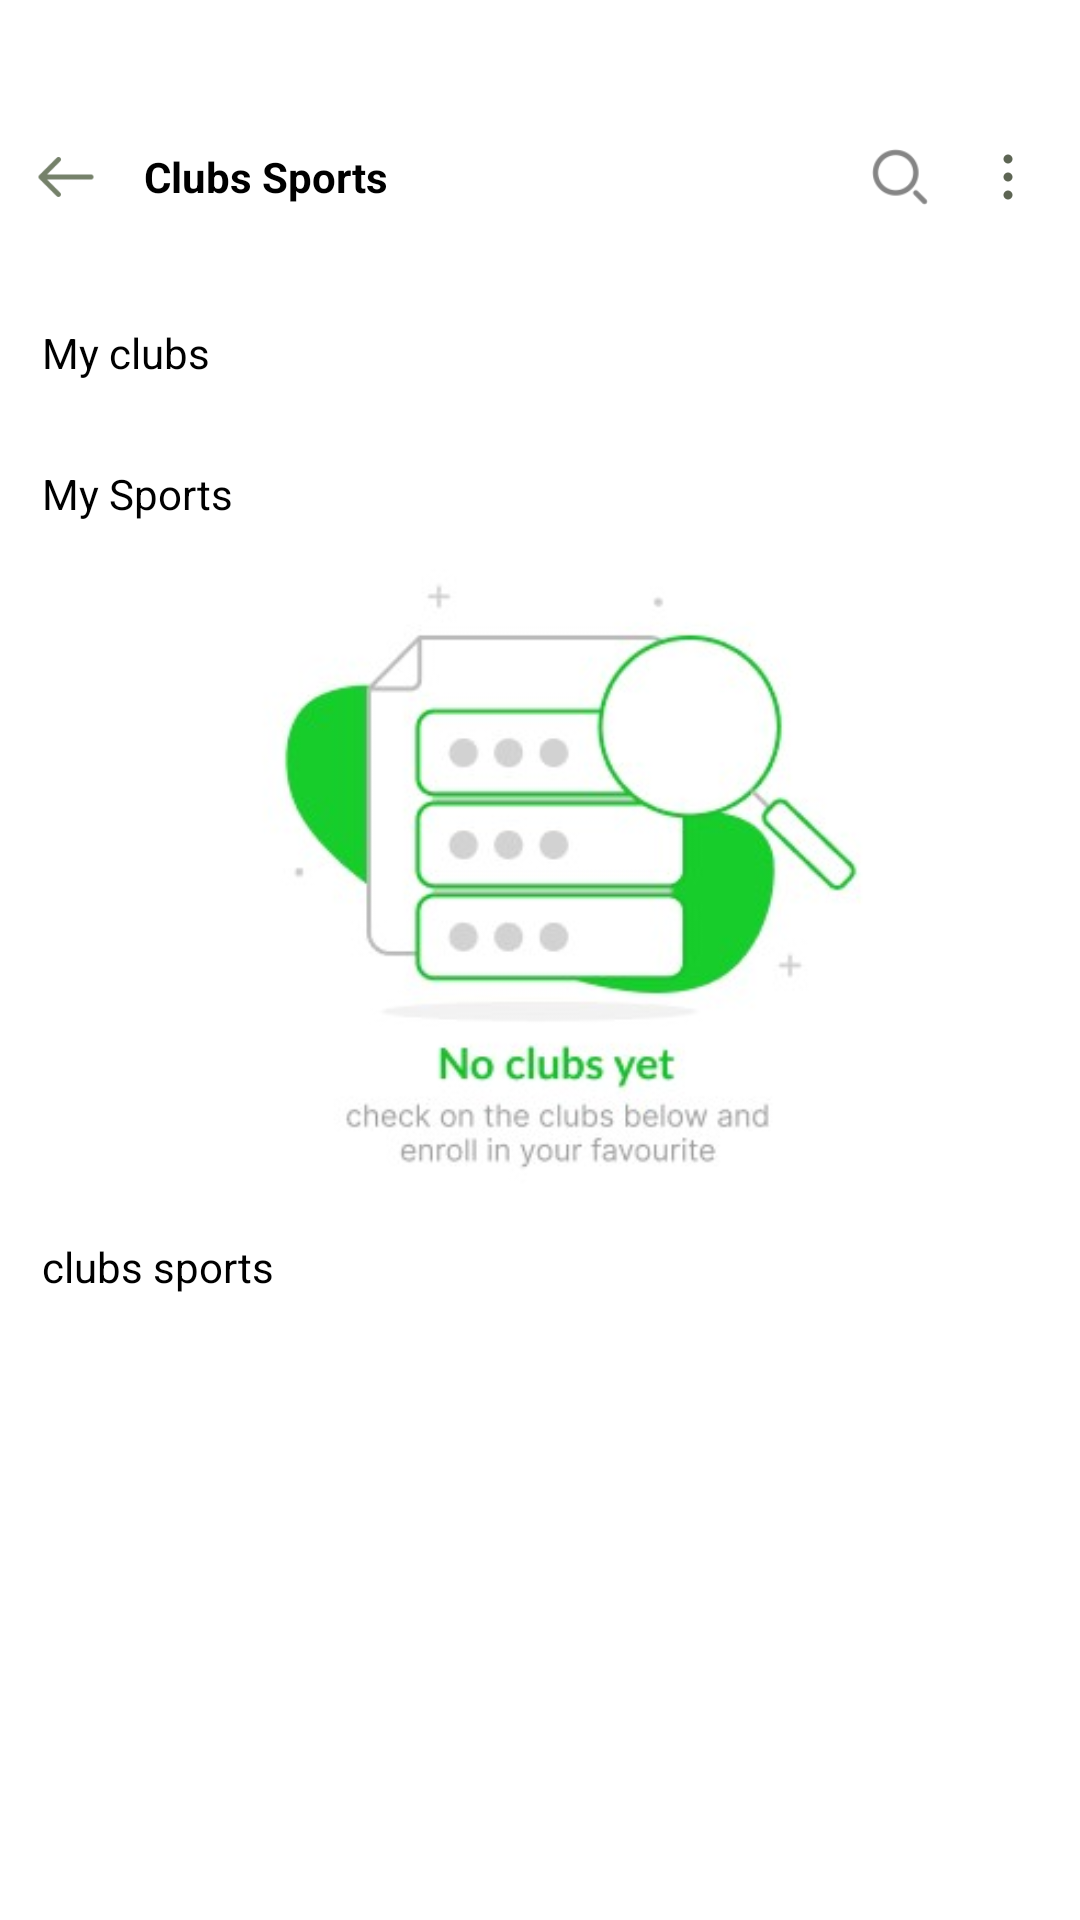

Named icons in this screenshot (1080×1920) and their bounding boxes, bbox=[x1, y1, x2, y2]:
back arrow: bbox=[38, 157, 94, 197]
search: bbox=[872, 149, 927, 204]
